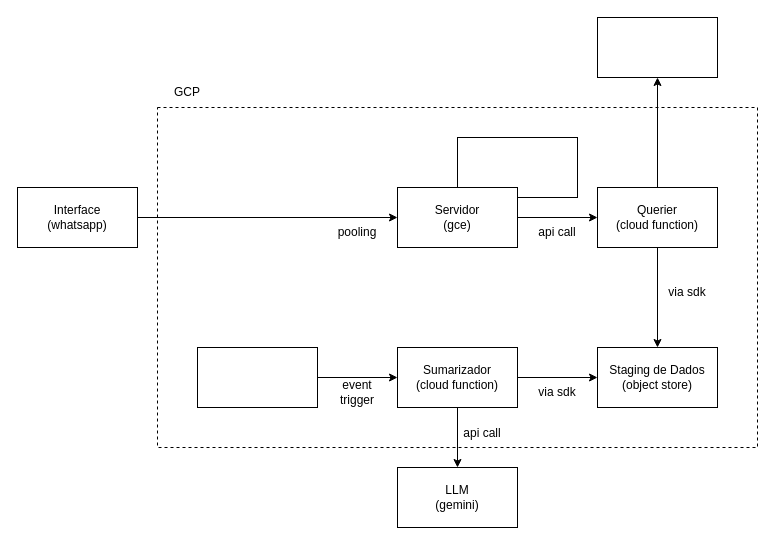
Image size: 775x545. Some labels were removed from this diagram. The shapes that lost their labels are listed below. From the top down, each one's centre as x and y in pixels, then its label:
At (x=657, y=47): "LLM (gpt)".
At (x=517, y=167): "Handler (python)".
At (x=257, y=377): "Base de Dados (object store)".
